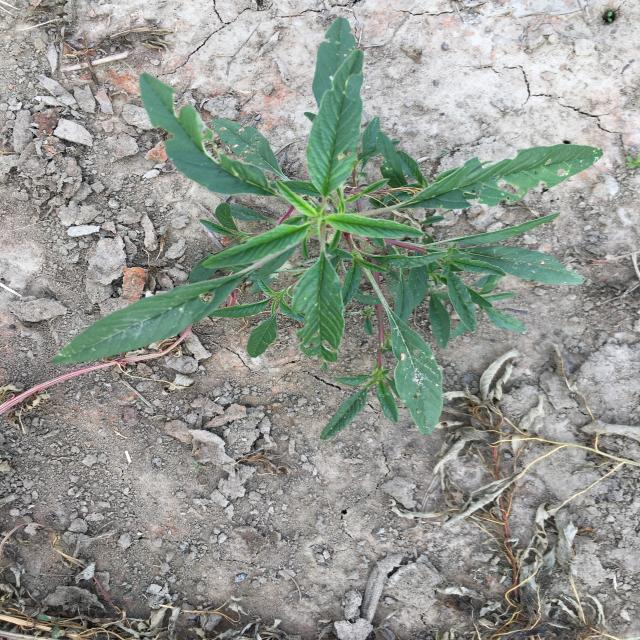Waterhemp: (50, 17, 604, 440)
